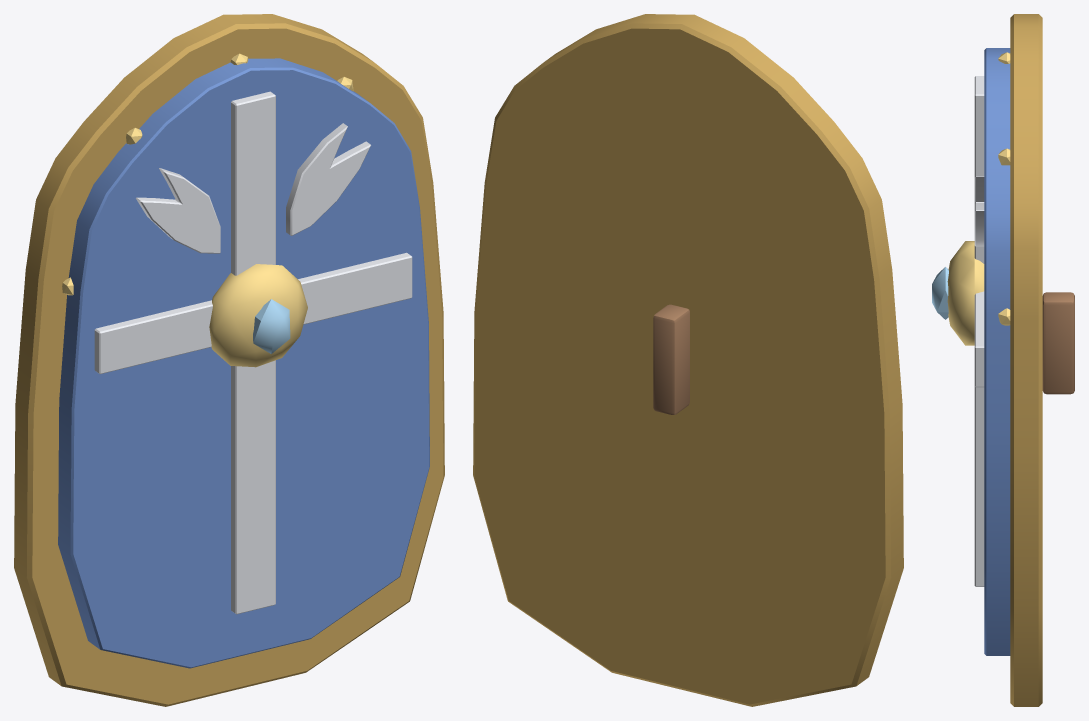
The model's file is gen_tower_shield.fbx.
3 renders of one model, left to right at view 1: azimuth 30°, elevation 25°; view 2: azimuth 150°, elevation 25°; view 3: azimuth 270°, elevation 25°, orthographic. The views are drawn at different scales.
Visible parts, largest first — view 1: tower_shield; view 2: tower_shield; view 3: tower_shield.
Part boxes in pixels (x1,y1,x2,y2): tower_shield: (14,14,444,706); tower_shield: (473,14,903,706); tower_shield: (932,14,1074,706).
Size of the model in its own units: 0.72 by 1.1 by 0.2208.
